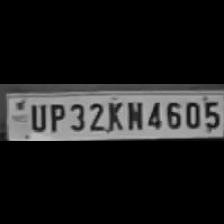0: (182, 98, 200, 128)
2: (86, 98, 104, 132)
3: (66, 99, 86, 131)
4: (144, 97, 164, 128)
5: (200, 97, 220, 129)
6: (163, 98, 181, 128)
K: (104, 98, 124, 130)
N: (122, 96, 144, 130)
P: (46, 99, 66, 131)
U: (26, 100, 46, 132)
